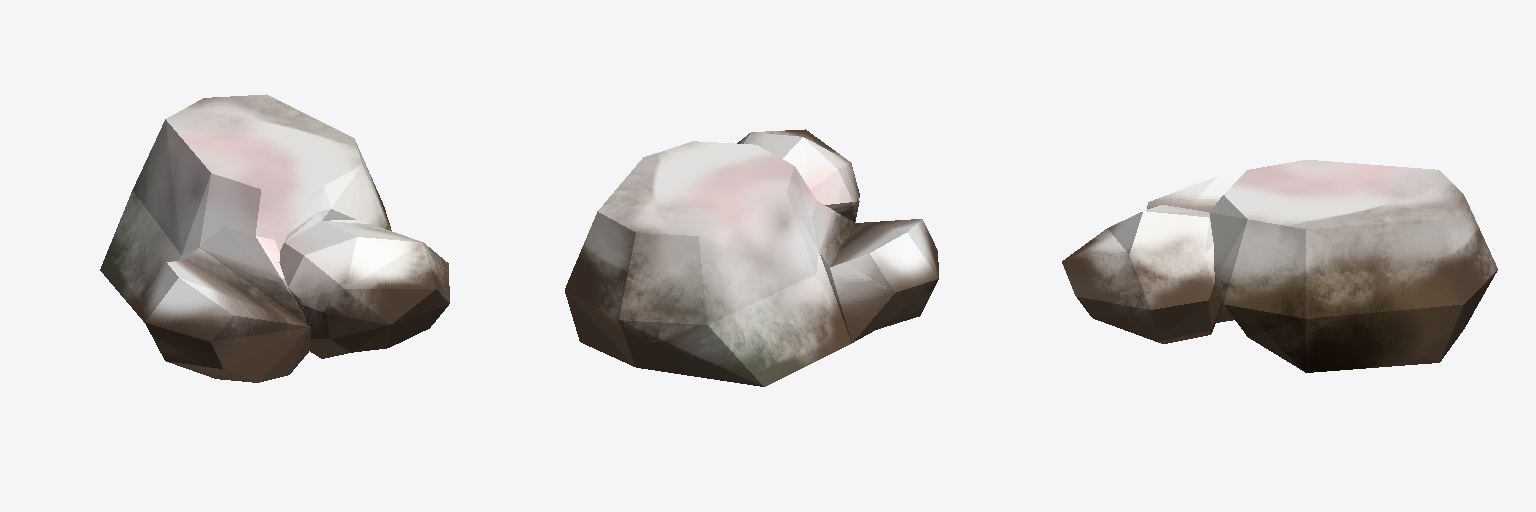
3 renders of one model, left to right at view 1: azimuth 30°, elevation 25°; view 2: azimuth 150°, elevation 25°; view 3: azimuth 270°, elevation 25°, orthographic.
Parts seen in each view (by area): view 1: Sphere003; view 2: Sphere003; view 3: Sphere003.
Boxes of the visible parts, <box> form: Sphere003: <box>100,94,449,382</box>; Sphere003: <box>565,129,938,386</box>; Sphere003: <box>1062,160,1497,372</box>.
Bounding box in the file's own units: 56.72 × 31.07 × 75.93.
Materials: 1 (1 with a texture image).